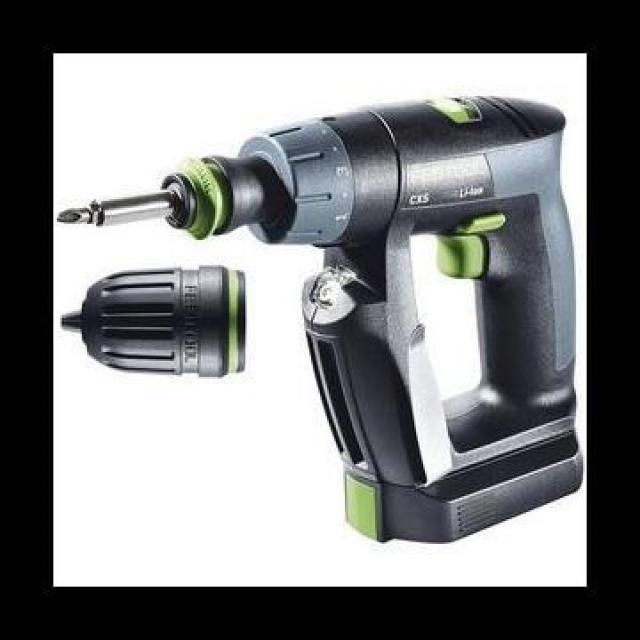drill: (54, 95, 586, 550), (59, 263, 250, 382)
